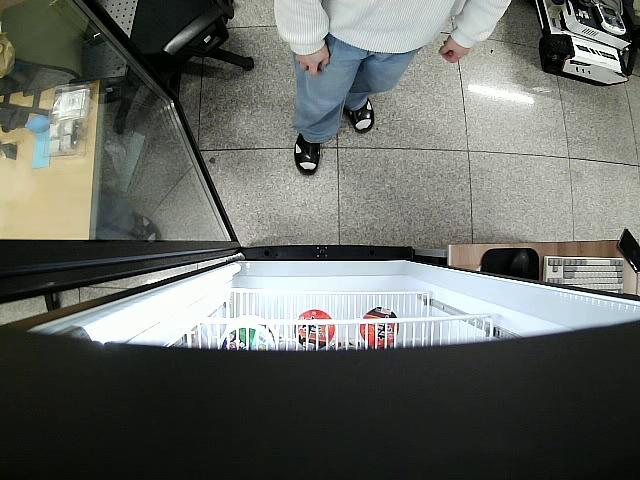00_hand: (294, 42, 331, 75), (437, 32, 470, 66)
